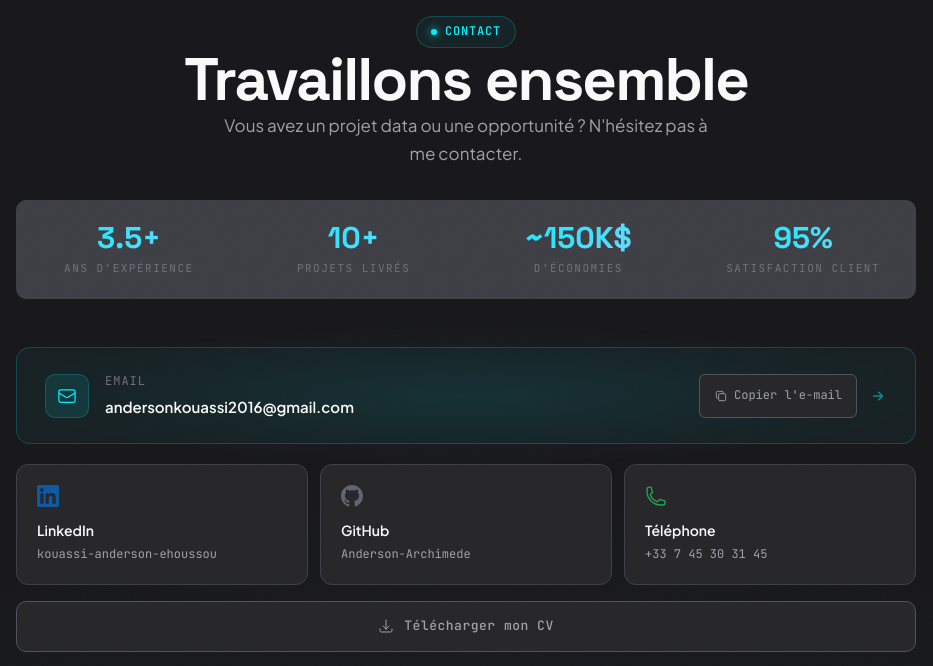
Test: Contact — copy email button › button shows confirmation text after copy
This screenshot has width=933, height=666.
Click the button "Copier l'e-mail" at [778, 396], box [699,374,857,418]
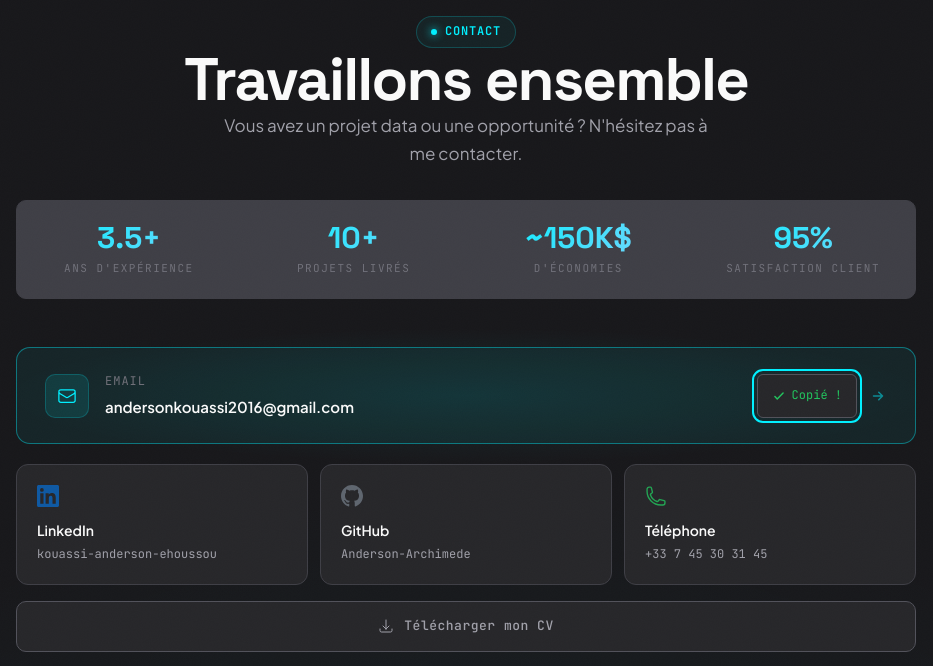
Now the button "Copié !" is shown, box [757,374,857,418]
